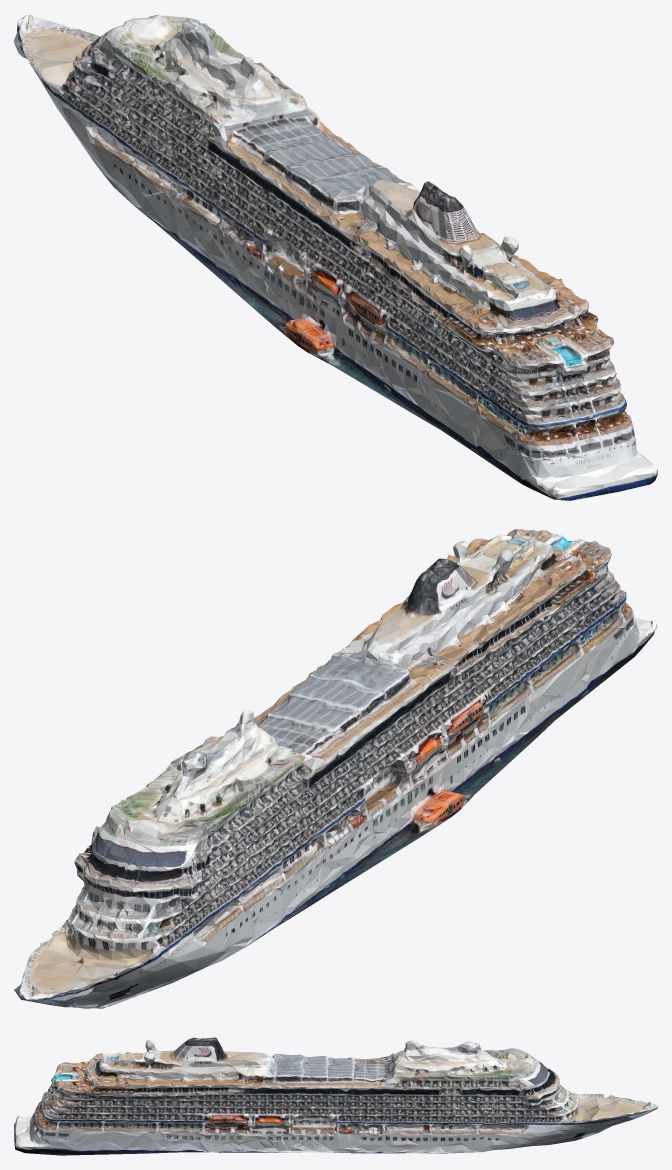
The model's file is viking.glb.
The picture shows the model from 3 angles, top to bottom: view 1: azimuth 30°, elevation 25°; view 2: azimuth 150°, elevation 25°; view 3: azimuth 270°, elevation 25°; orthographic projection. The views are drawn at different scales.
Bounding box in the file's own units: 38.48 × 49.14 × 278.
Materials: 1 (1 with a texture image).
